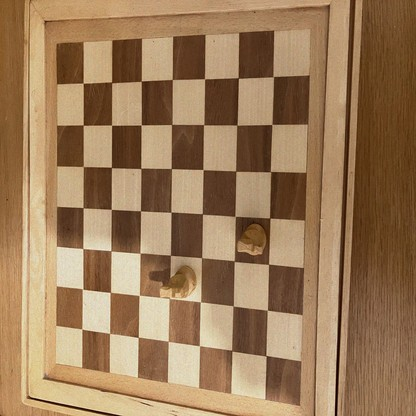knight_white: (160, 266, 196, 299), (237, 223, 266, 255)
